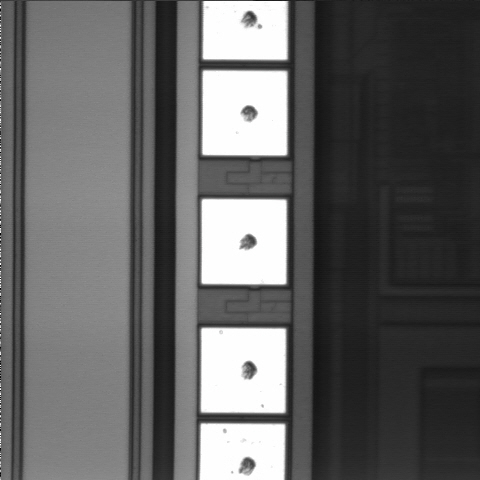pad: (201, 328, 286, 413), (202, 71, 287, 155), (202, 199, 286, 284)
